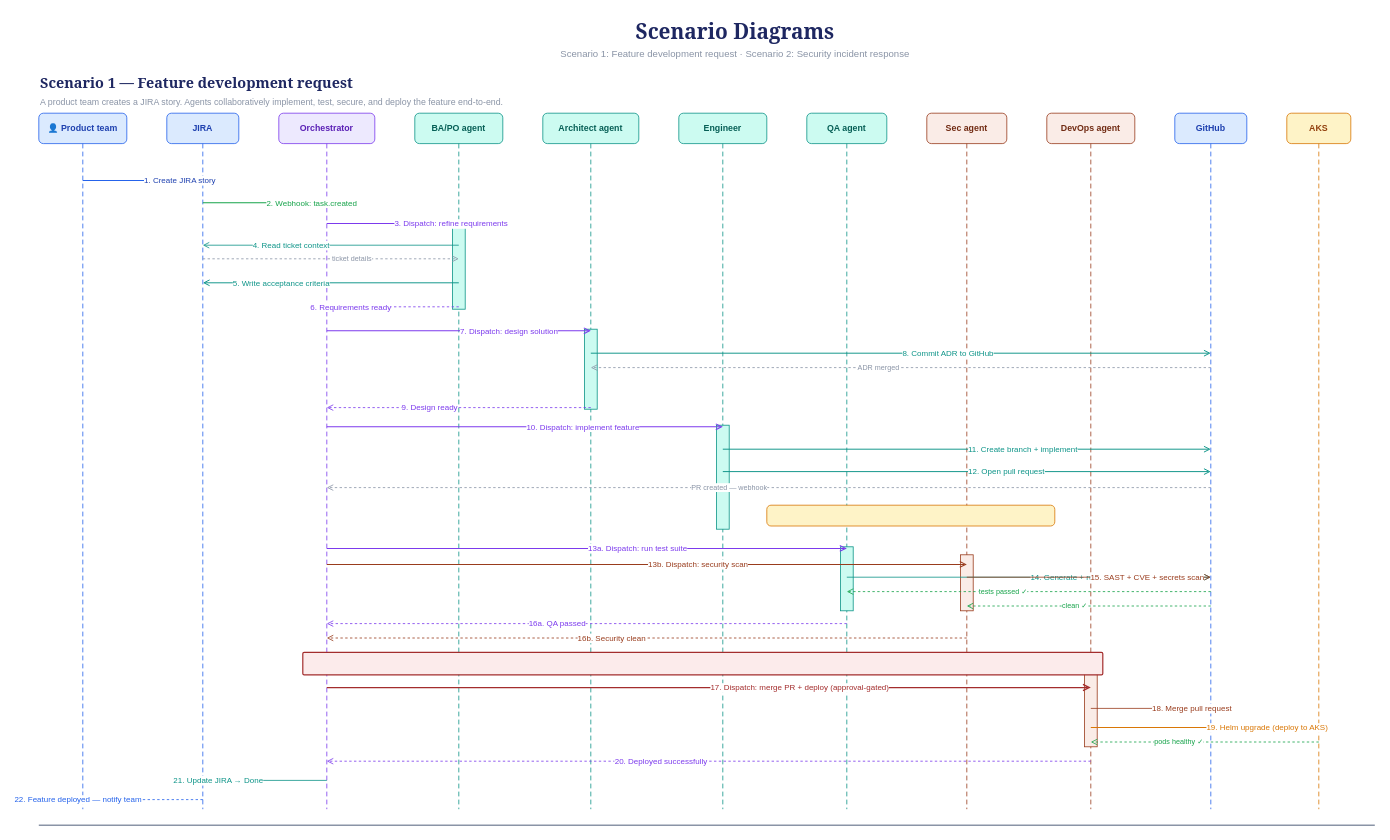
Some shapes in this 1390 by 840 pixel diagram are drawn without their labels. The shapes that lost their labels are listed below. From the top down, each one's centre as x and y in pixels, then its label:
point 910,515: ⚡ Parallel fan-out — QA + Security run concurrently
point 702,663: 🔒 Approval gate — human approves merge + production deploy
